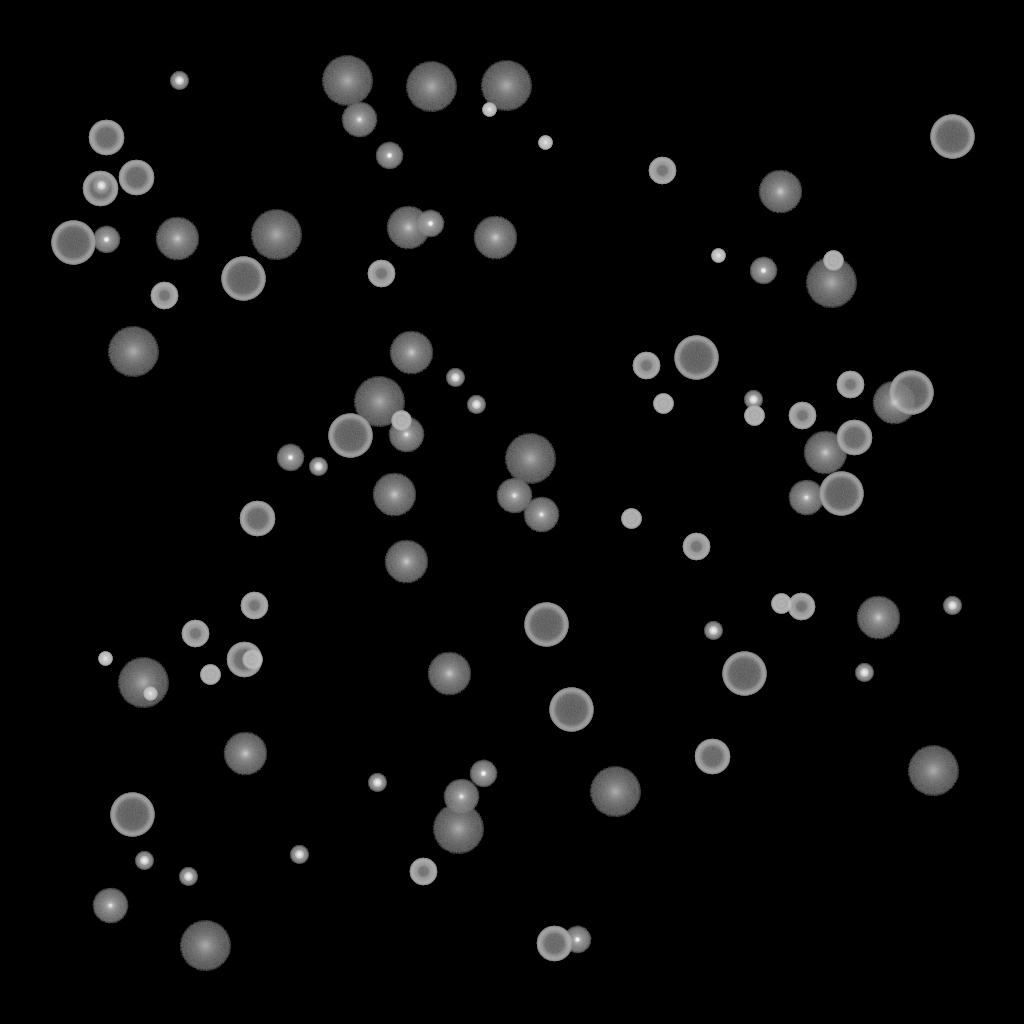depth:-10: (92, 226, 120, 254), (749, 257, 777, 285), (375, 142, 403, 170), (416, 210, 444, 238), (276, 444, 304, 472), (469, 760, 497, 788), (563, 926, 591, 954)
depth:-20: (943, 597, 961, 615), (309, 458, 327, 476), (290, 846, 308, 864), (92, 177, 110, 195), (135, 852, 153, 870), (744, 391, 762, 409), (704, 622, 722, 640), (368, 774, 386, 792), (446, 369, 464, 387), (179, 868, 197, 886), (855, 664, 873, 682), (467, 396, 485, 414), (170, 72, 188, 90)
depth:-30: (482, 103, 496, 117), (711, 249, 725, 263), (98, 652, 112, 666), (538, 136, 552, 150), (143, 687, 157, 701)
depth:-40: (823, 251, 843, 271), (200, 665, 220, 685), (391, 411, 411, 431), (771, 594, 791, 614), (744, 406, 764, 426), (621, 509, 641, 529), (242, 650, 262, 670), (653, 394, 673, 414)
depth:-50: (632, 352, 660, 380), (240, 592, 268, 620), (648, 157, 676, 185), (836, 371, 864, 399), (409, 858, 437, 886), (150, 282, 178, 310), (367, 260, 395, 288), (682, 533, 710, 561), (788, 402, 816, 430), (787, 593, 815, 621), (181, 620, 209, 648)
depth:-60: (118, 160, 154, 196), (536, 926, 572, 962), (836, 420, 872, 456), (239, 501, 275, 537), (226, 642, 262, 678), (82, 171, 118, 207), (88, 120, 124, 156), (694, 739, 730, 775)
depth:-70: (110, 793, 154, 837), (674, 336, 718, 380), (722, 652, 766, 696), (51, 221, 95, 265), (549, 688, 593, 732), (930, 115, 974, 159), (524, 603, 568, 647), (328, 414, 372, 458), (889, 371, 933, 415), (819, 472, 863, 516), (221, 257, 265, 301)
depth:0: (92, 888, 128, 924), (788, 480, 824, 516), (523, 497, 559, 533), (443, 779, 479, 815), (496, 478, 532, 514), (341, 102, 377, 138), (388, 417, 424, 453)
depth:10: (384, 540, 428, 584), (427, 652, 471, 696), (856, 596, 900, 640), (372, 473, 416, 517), (155, 217, 199, 261), (386, 206, 430, 250), (758, 170, 802, 214), (872, 381, 916, 425), (473, 216, 517, 260), (389, 331, 433, 375), (803, 431, 847, 475), (223, 732, 267, 776)
depth:20: (107, 327, 159, 377), (480, 61, 532, 111), (432, 804, 484, 854), (250, 210, 302, 260), (907, 746, 959, 796), (504, 434, 556, 484), (589, 767, 641, 817), (805, 258, 857, 308), (117, 658, 169, 708), (179, 921, 231, 971), (405, 62, 457, 112), (321, 56, 373, 106), (353, 377, 405, 427)
